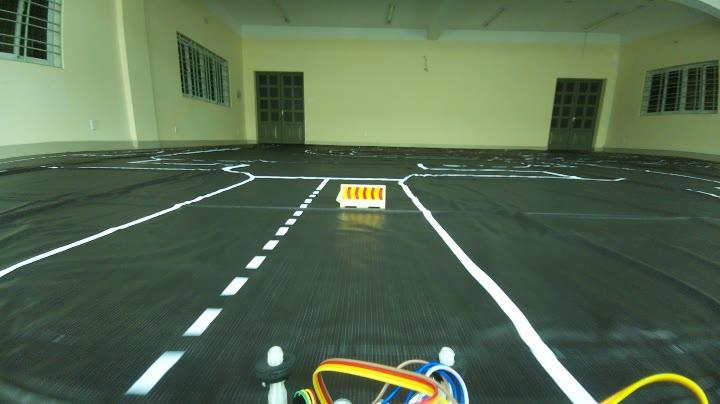roadblock: (328, 176, 395, 222)
